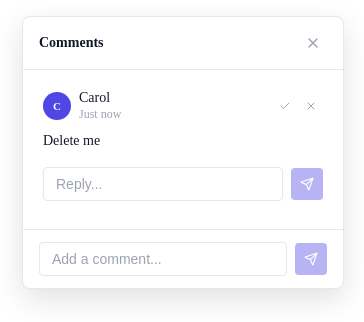
CommentThread › deletes a comment
Check: the text "Delete me" is shown, box [43, 133, 100, 148]
Click the button named "Delete comment". click: click(311, 106)
box: [299, 94, 323, 118]
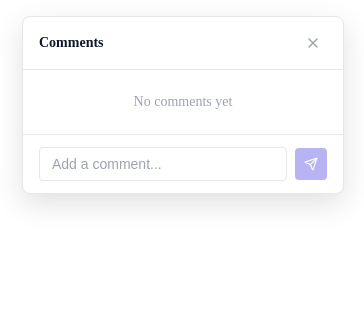
Check: the text "Delete me" is gone
